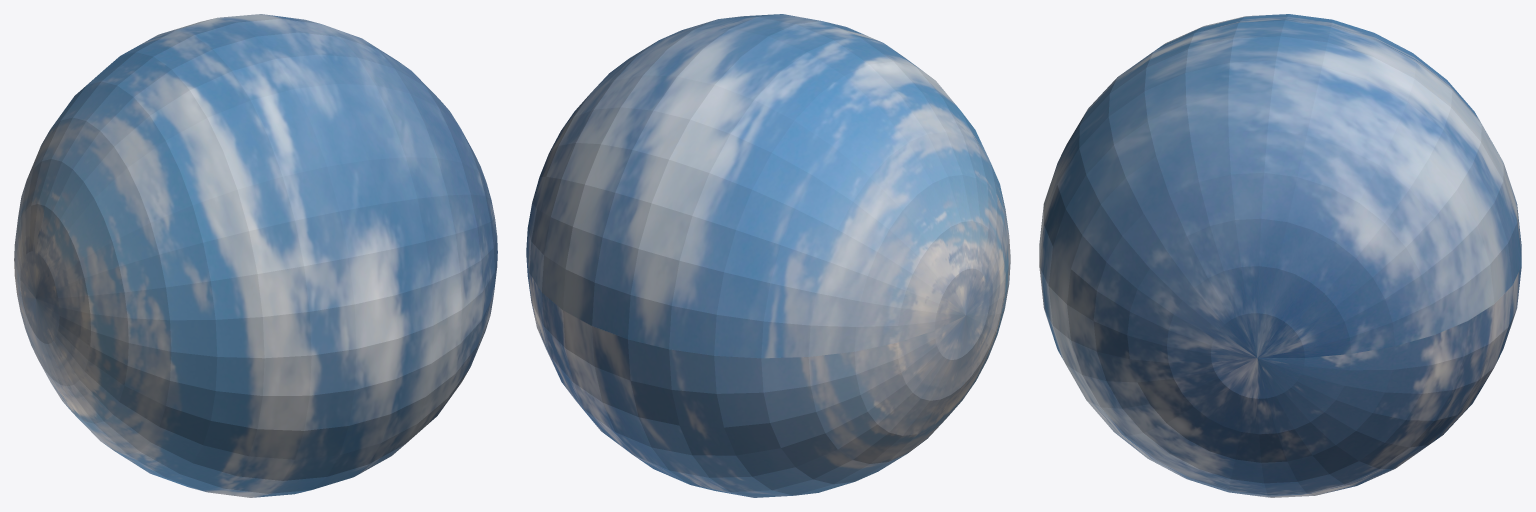
The model's file is Stadium_w_sky_sphere.obj.
3 views of the same model, side by side, from view 1: azimuth 30°, elevation 25°; view 2: azimuth 150°, elevation 25°; view 3: azimuth 270°, elevation 25° (orthographic).
Parts seen in each view (by area): view 1: Sky_2_Plane.001; view 2: Sky_2_Plane.001; view 3: Sky_2_Plane.001.
Part boxes in pixels (bbox=[...]): Sky_2_Plane.001: bbox=[14, 14, 497, 497]; Sky_2_Plane.001: bbox=[526, 14, 1010, 497]; Sky_2_Plane.001: bbox=[1039, 14, 1521, 497].
Bounding box in the file's own units: 276 × 278 × 276.
